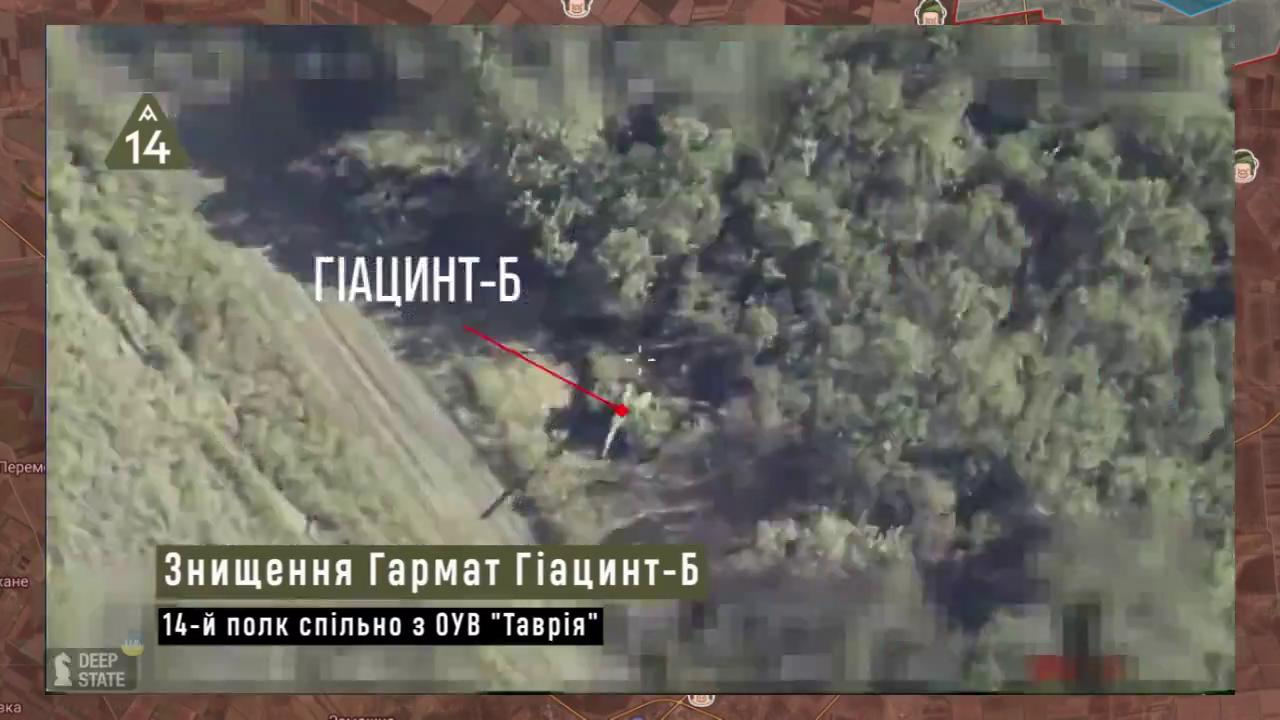tank: (561, 345, 682, 468)
